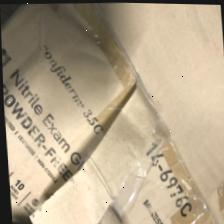cardboard: (0, 0, 162, 224), (115, 2, 224, 224)
